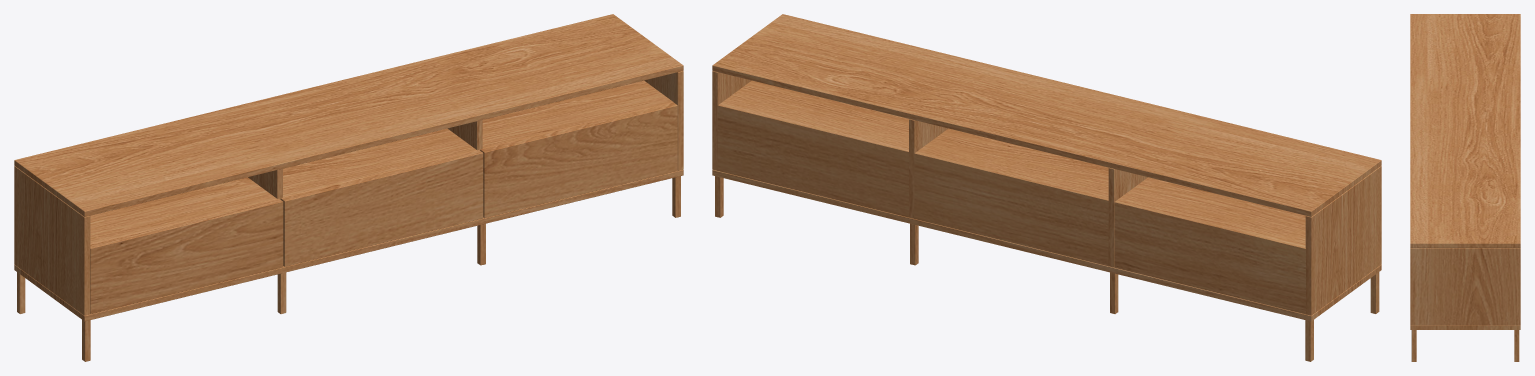
File: TV_Stand_Gen_3.fbx
3 renders of one model, left to right at view 1: azimuth 30°, elevation 25°; view 2: azimuth 150°, elevation 25°; view 3: azimuth 270°, elevation 25°, orthographic. The views are drawn at different scales.
Parts seen in each view (by area): view 1: mesh_TV_Stand; view 2: mesh_TV_Stand; view 3: mesh_TV_Stand.
Boxes of the visible parts, x1=… form: mesh_TV_Stand: x1=14, y1=14, x2=683, y2=361; mesh_TV_Stand: x1=712, y1=14, x2=1381, y2=361; mesh_TV_Stand: x1=1410, y1=14, x2=1520, y2=361.
Bounding box in the file's own units: 227 × 54.97 × 46.23.
